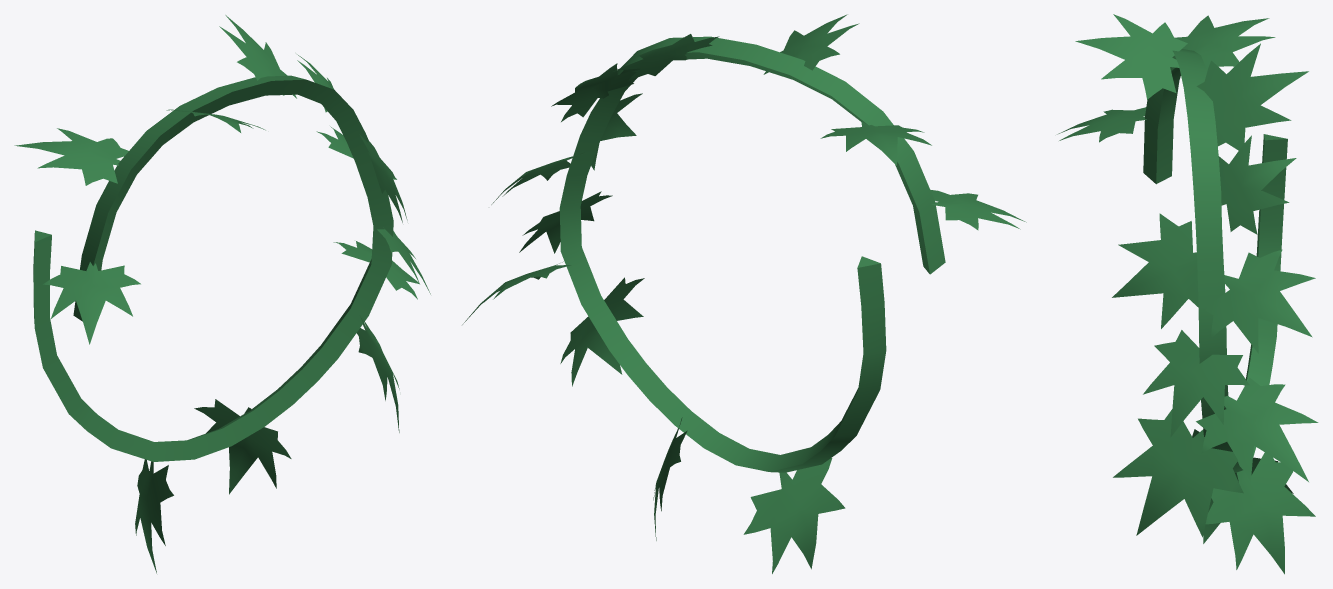
The model's file is vine_W_alangium_loop_big_angle.fbx.
3 views of the same model, side by side, from view 1: azimuth 30°, elevation 25°; view 2: azimuth 150°, elevation 25°; view 3: azimuth 270°, elevation 25° (orthographic). The views are drawn at different scales.
Visible parts, largest first — view 1: vine_W_scanden_loop_big_angle_root, vine_alangium_A_leaf_B54, vine_alangium_A_leaf_B51, vine_alangium_A_leaf_B57, vine_alangium_A_leaf_B53, vine_alangium_A_leaf_B50, vine_alangium_A_leaf_B60, vine_alangium_A_leaf_B, vine_alangium_A_leaf_B58, vine_alangium_A_leaf_B56; view 2: vine_W_scanden_loop_big_angle_root, vine_alangium_A_leaf_B53, vine_alangium_A_leaf_B60, vine_alangium_A_leaf_B55, vine_alangium_A_leaf_B54, vine_alangium_A_leaf_B51, vine_alangium_A_leaf_B52, vine_alangium_A_leaf_B50, vine_alangium_A_leaf_B56, vine_alangium_A_leaf_B57, vine_alangium_A_leaf_B58; view 3: vine_W_scanden_loop_big_angle_root, vine_alangium_A_leaf_B60, vine_alangium_A_leaf_B57, vine_alangium_A_leaf_B, vine_alangium_A_leaf_B59, vine_alangium_A_leaf_B50, vine_alangium_A_leaf_B58, vine_alangium_A_leaf_B56, vine_alangium_A_leaf_B55, vine_alangium_A_leaf_B52, vine_alangium_A_leaf_B51, vine_alangium_A_leaf_B54 (+1 smaller).
Part boxes in pixels (x1,y1,x2,y2): vine_W_scanden_loop_big_angle_root: [33, 75, 393, 461]; vine_alangium_A_leaf_B54: [43, 262, 140, 344]; vine_alangium_A_leaf_B51: [14, 128, 128, 185]; vine_alangium_A_leaf_B57: [194, 399, 291, 494]; vine_alangium_A_leaf_B53: [135, 459, 173, 573]; vine_alangium_A_leaf_B50: [219, 15, 296, 98]; vine_alangium_A_leaf_B60: [357, 316, 399, 432]; vine_alangium_A_leaf_B: [333, 241, 419, 299]; vine_alangium_A_leaf_B58: [359, 134, 407, 222]; vine_alangium_A_leaf_B56: [377, 227, 430, 294]; vine_W_scanden_loop_big_angle_root: [559, 36, 945, 472]; vine_alangium_A_leaf_B53: [743, 458, 845, 573]; vine_alangium_A_leaf_B60: [560, 277, 644, 386]; vine_alangium_A_leaf_B55: [763, 14, 859, 74]; vine_alangium_A_leaf_B54: [930, 190, 1026, 230]; vine_alangium_A_leaf_B51: [820, 121, 931, 165]; vine_alangium_A_leaf_B52: [551, 63, 638, 121]; vine_alangium_A_leaf_B50: [613, 34, 719, 81]; vine_alangium_A_leaf_B56: [519, 191, 612, 253]; vine_alangium_A_leaf_B57: [653, 417, 687, 540]; vine_alangium_A_leaf_B58: [591, 93, 642, 170]; vine_W_scanden_loop_big_angle_root: [1143, 49, 1287, 472]; vine_alangium_A_leaf_B60: [1113, 409, 1243, 537]; vine_alangium_A_leaf_B57: [1205, 452, 1315, 574]; vine_alangium_A_leaf_B: [1196, 377, 1318, 482]; vine_alangium_A_leaf_B59: [1205, 249, 1315, 353]; vine_alangium_A_leaf_B50: [1196, 43, 1308, 150]; vine_alangium_A_leaf_B58: [1112, 213, 1198, 328]; vine_alangium_A_leaf_B56: [1143, 330, 1249, 437]; vine_alangium_A_leaf_B55: [1075, 14, 1187, 99]; vine_alangium_A_leaf_B52: [1218, 135, 1296, 234]; vine_alangium_A_leaf_B51: [1174, 15, 1275, 70]; vine_alangium_A_leaf_B54: [1057, 107, 1146, 142].
Size of the model in its own units: 77.04 by 84.42 by 36.84.
